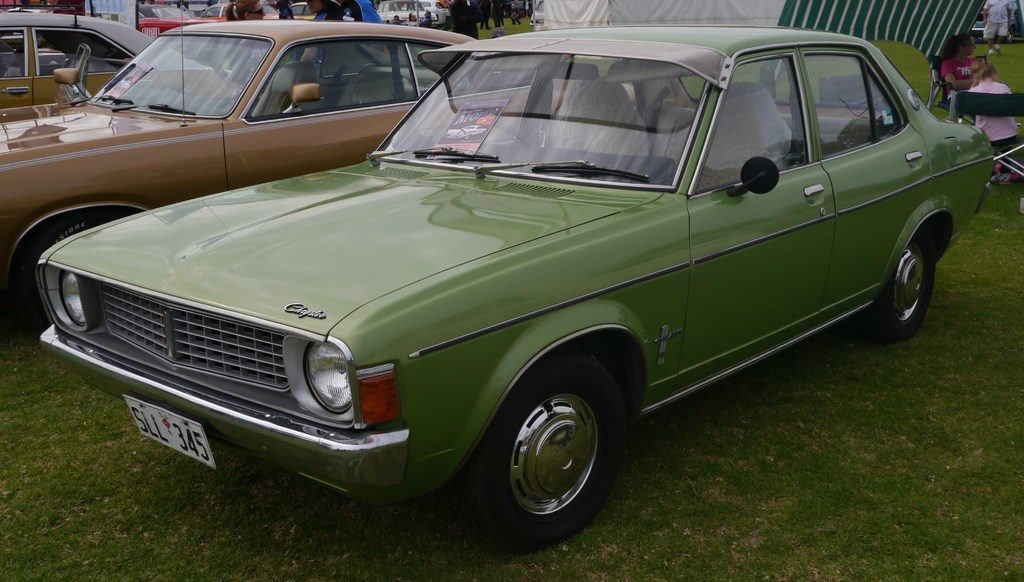Car: (34, 25, 992, 552), (0, 20, 479, 323), (0, 2, 219, 107)
